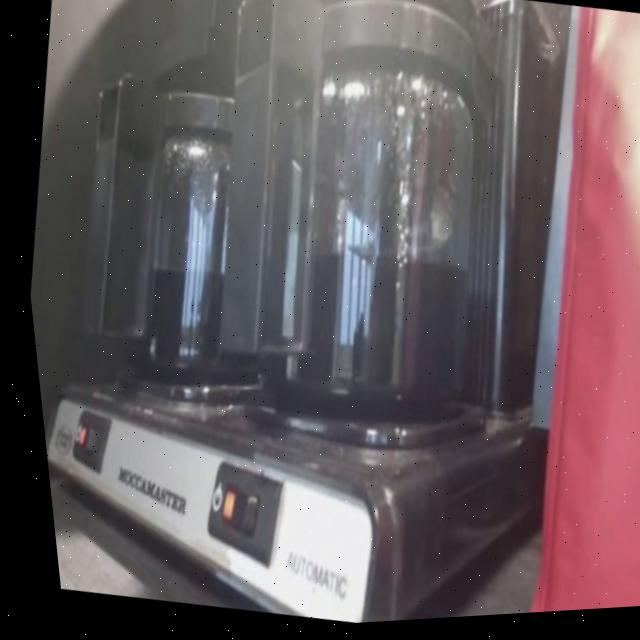coffee: (171, 0, 535, 454), (79, 67, 301, 395)
